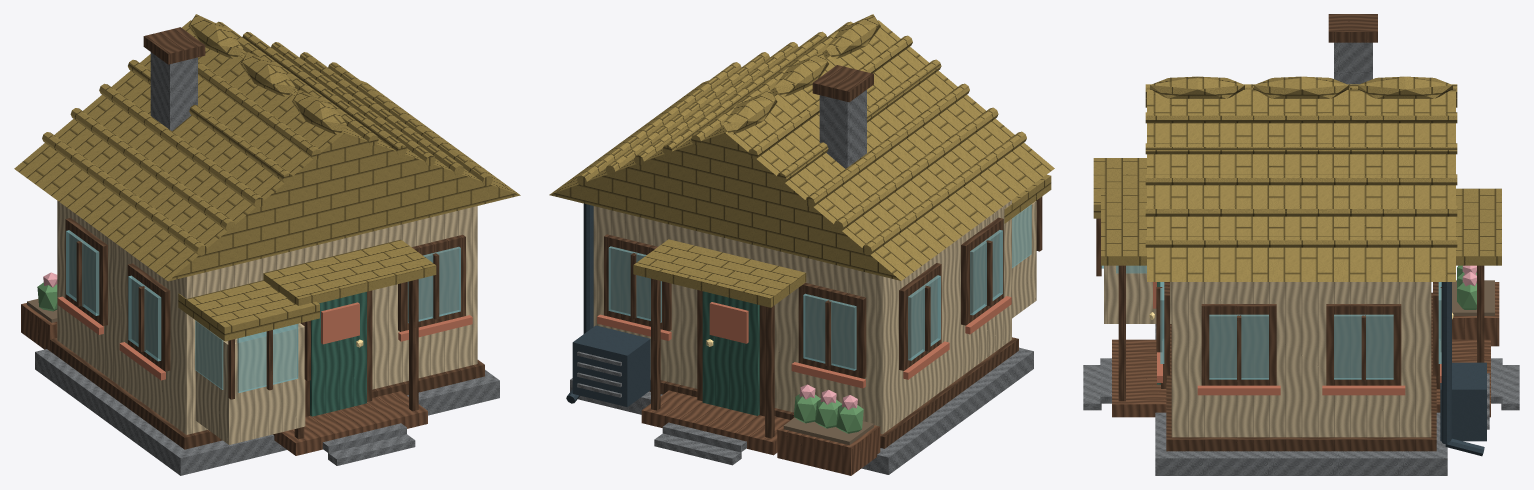
The model's file is house_cottage_lv1_bay.glb.
3 views of the same model, side by side, from view 1: azimuth 30°, elevation 25°; view 2: azimuth 150°, elevation 25°; view 3: azimuth 270°, elevation 25° (orthographic).
Visible parts, largest first — view 1: gable_roof, walls, bay_base, foundation, front_porch_canopy, bay_cap, front_door, front_deck, floor_trim, front_window_frame.001, bay_glass, left_window_frame (+29 smaller); view 2: gable_roof, walls, back_porch_canopy, foundation, back_door, back_window_frame, back_ac_unit, back_deck, back_window_frame.001, back_garden_bed, back_window_glass, chimney (+38 smaller); view 3: gable_roof, walls, foundation, right_window_frame, right_window_frame.001, floor_trim, thatch_course.005, thatch_course.006, thatch_course.007, thatch_course.008, thatch_course.009, right_window_glass (+27 smaller).
Part boxes in pixels (box(x1,y1,x2,y2)): gable_roof: box(14, 20, 520, 281); walls: box(57, 201, 477, 434); bay_base: box(195, 321, 305, 444); foundation: box(35, 349, 499, 475); front_porch_canopy: box(263, 239, 436, 305); bay_cap: box(178, 280, 319, 341); front_door: box(310, 292, 366, 416); front_deck: box(273, 391, 427, 455); floor_trim: box(50, 338, 484, 449); front_window_frame.001: box(398, 234, 465, 331); bay_glass: box(237, 324, 298, 392); left_window_frame: box(127, 263, 170, 371); gable_roof: box(549, 20, 1054, 280); walls: box(593, 200, 1011, 434); back_porch_canopy: box(633, 239, 806, 307); foundation: box(570, 347, 1033, 474); back_door: box(702, 291, 759, 415); back_window_frame: box(798, 283, 866, 378); back_ac_unit: box(572, 325, 650, 407); back_deck: box(641, 390, 790, 455); back_window_frame.001: box(604, 234, 671, 331); back_garden_bed: box(777, 417, 880, 475); back_window_glass: box(803, 293, 856, 370); chimney: box(819, 90, 866, 168); gable_roof: box(1147, 89, 1455, 281); walls: box(1171, 282, 1431, 437); foundation: box(1155, 324, 1447, 475); right_window_frame: box(1201, 304, 1276, 385); right_window_frame.001: box(1326, 304, 1401, 385); floor_trim: box(1166, 292, 1436, 451); thatch_course.005: box(1145, 112, 1457, 123); thatch_course.006: box(1145, 143, 1457, 154); thatch_course.007: box(1145, 174, 1457, 185); thatch_course.008: box(1145, 205, 1457, 216); thatch_course.009: box(1145, 236, 1457, 247); right_window_glass: box(1209, 314, 1268, 379).
Bounding box in the file's own units: 3.15 × 2.9 × 3.36.
13 materials, 7 textured.
